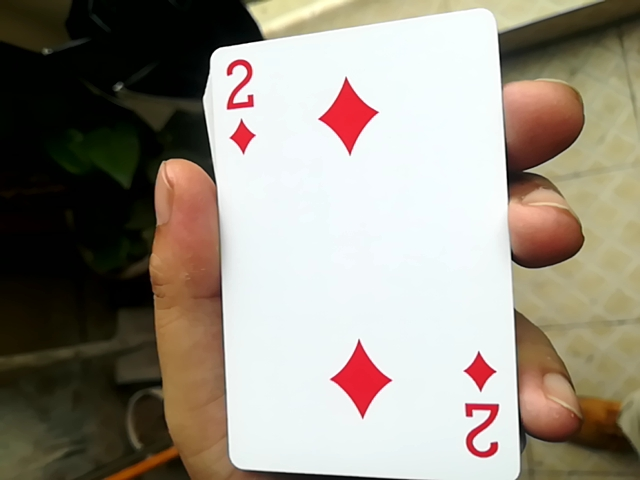fk 2: (190, 1, 510, 479)
